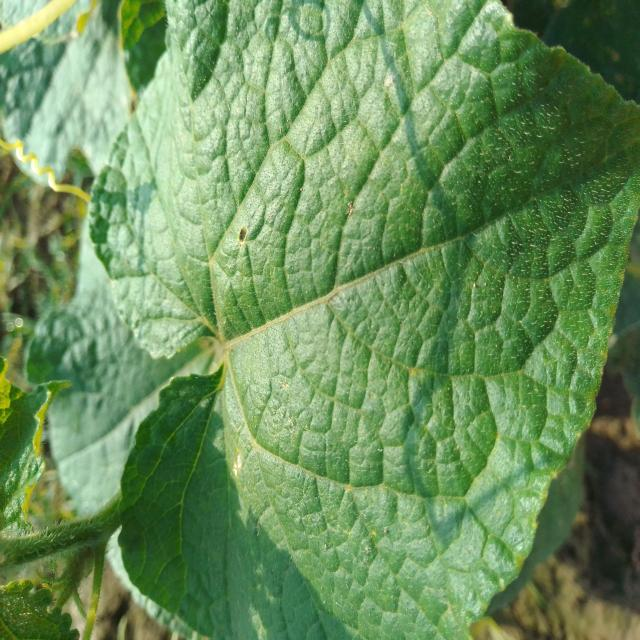cucumber_healthy: (86, 0, 640, 640), (2, 0, 128, 193), (0, 351, 83, 640)
